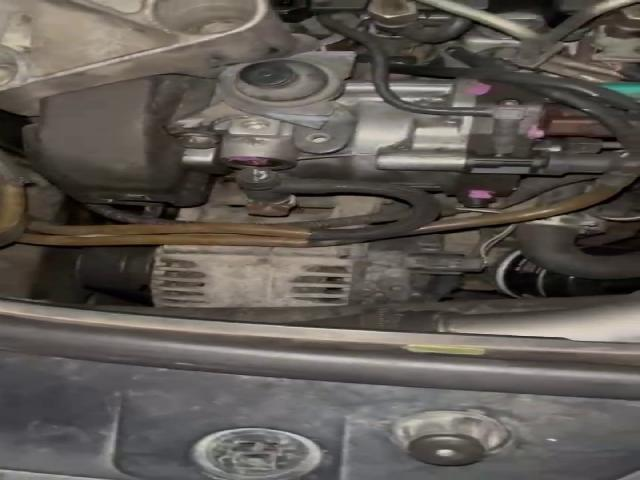alternator: (150, 244, 367, 308)
high_pressure_pump: (212, 80, 548, 206)
